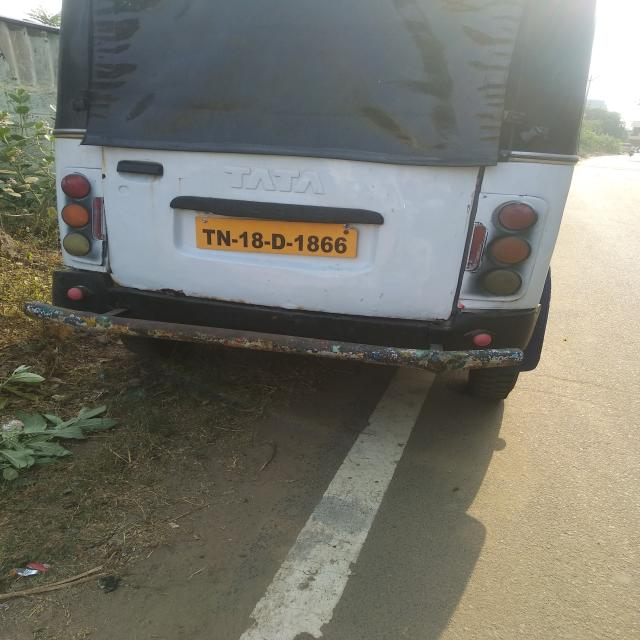number_plate: (192, 214, 360, 260)
